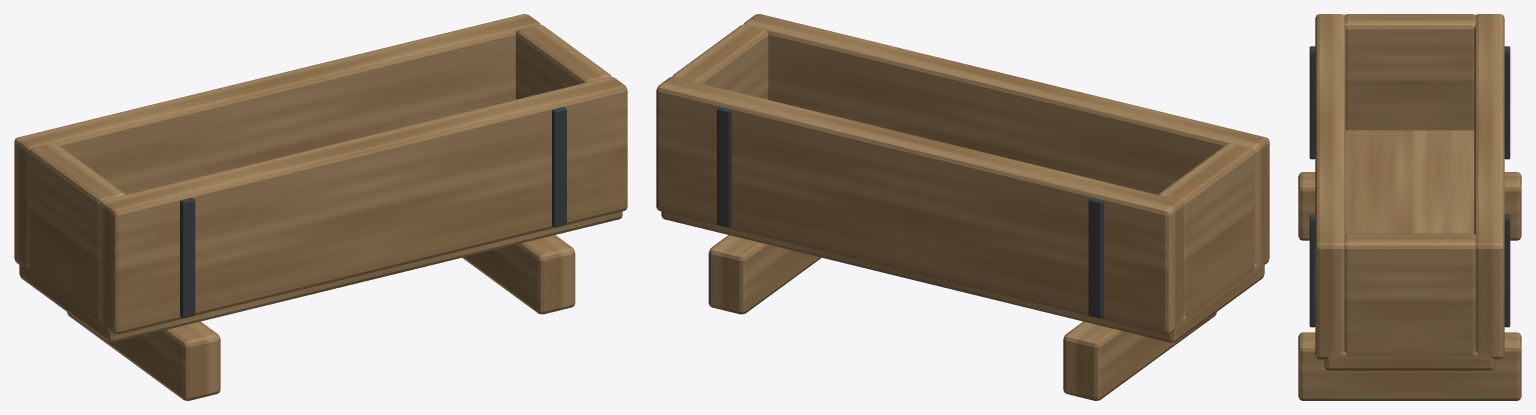
The model's file is feed_trough.glb.
3 renders of one model, left to right at view 1: azimuth 30°, elevation 25°; view 2: azimuth 150°, elevation 25°; view 3: azimuth 270°, elevation 25°, orthographic. The views are drawn at different scales.
Visible parts, largest first — view 1: long_wall, long_wall.001, end_wall, foot, foot.001, bottom, end_wall.001, iron_strap, iron_strap.002; view 2: long_wall.001, long_wall, end_wall, foot, foot.001, bottom, end_wall.001, iron_strap.001, iron_strap.003; view 3: end_wall.001, bottom, end_wall, long_wall, long_wall.001, foot.001, foot, iron_strap, iron_strap.001, iron_strap.002, iron_strap.003.
Boxes of the visible parts, x1,y1,x2,y2 form: long_wall: (100, 77, 627, 334); long_wall.001: (14, 14, 540, 265); end_wall: (29, 143, 125, 319); foot: (67, 312, 220, 400); foot.001: (462, 235, 575, 314); bottom: (19, 211, 622, 342); end_wall.001: (515, 25, 611, 99); iron_strap: (180, 197, 195, 318); iron_strap.002: (552, 107, 566, 227); long_wall.001: (656, 77, 1183, 334); long_wall: (743, 14, 1269, 267); end_wall: (1158, 143, 1254, 319); foot: (1063, 312, 1216, 400); foot.001: (708, 235, 821, 314); bottom: (661, 211, 1264, 342); end_wall.001: (672, 25, 768, 99); iron_strap.001: (1088, 197, 1103, 318); iron_strap.003: (717, 107, 731, 227); end_wall.001: (1344, 233, 1475, 356); bottom: (1324, 130, 1495, 370); end_wall: (1344, 14, 1475, 130); long_wall: (1315, 14, 1345, 359); long_wall.001: (1474, 14, 1504, 359); foot.001: (1298, 332, 1521, 400); foot: (1298, 172, 1521, 240); iron_strap: (1309, 46, 1315, 159); iron_strap.001: (1504, 46, 1510, 159); iron_strap.002: (1309, 214, 1315, 327); iron_strap.003: (1504, 214, 1510, 327).
Size of the model in its own units: 1.8 by 0.67 by 0.73.
Materials: 3 (2 with a texture image).
